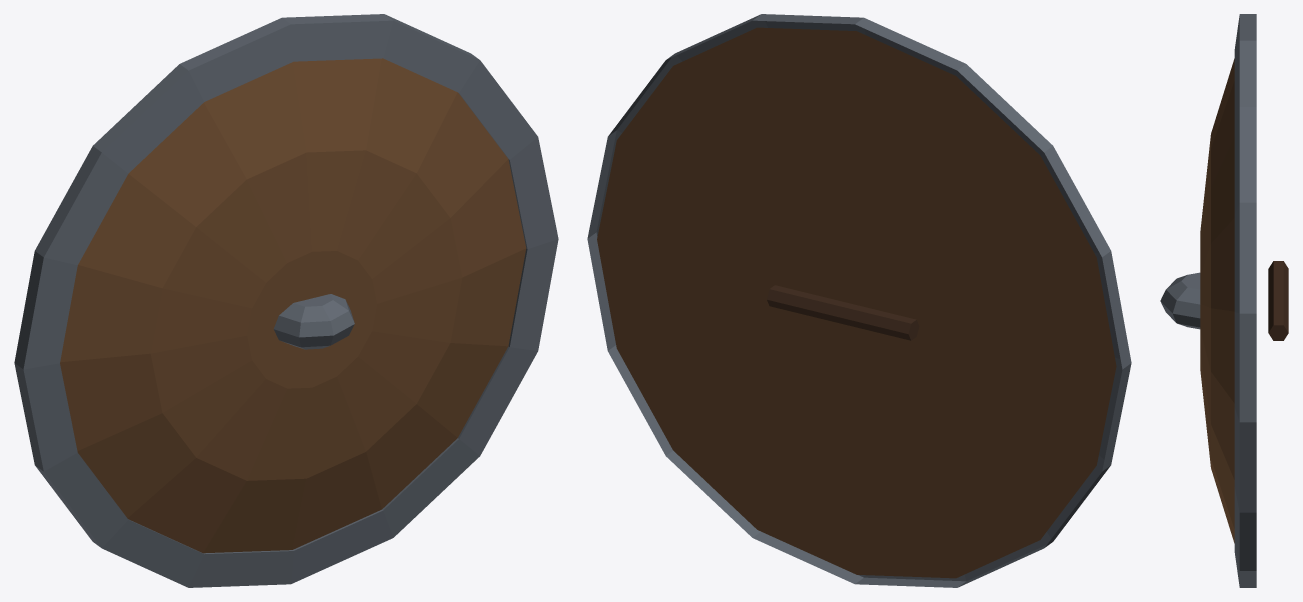
Rendered from g-shield-round.glb.
3 views of the same model, side by side, from view 1: azimuth 30°, elevation 25°; view 2: azimuth 150°, elevation 25°; view 3: azimuth 270°, elevation 25° (orthographic). The views are drawn at different scales.
Visible parts, largest first — view 1: g-shield-round; view 2: g-shield-round; view 3: g-shield-round.
Part boxes in pixels (x1,y1,x2,y2): g-shield-round: [14, 14, 558, 587]; g-shield-round: [587, 14, 1131, 587]; g-shield-round: [1160, 14, 1288, 587].
Bounding box in the file's own units: 0.6798 × 0.6798 × 0.152.
